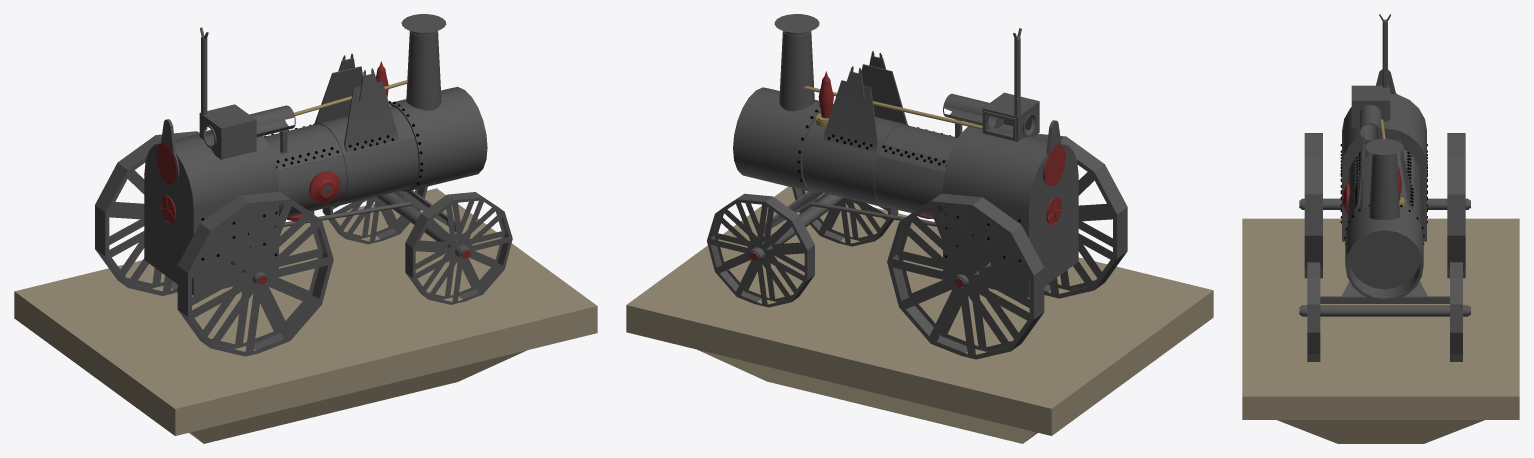
The model's file is keretaapi_gabungan.fbx.
3 views of the same model, side by side, from view 1: azimuth 30°, elevation 25°; view 2: azimuth 150°, elevation 25°; view 3: azimuth 270°, elevation 25° (orthographic). The views are drawn at different scales.
Parts seen in each view (by area): view 1: keretapi_bagianluar, pCube554; view 2: keretapi_bagianluar, pCube554; view 3: pCube554, keretapi_bagianluar.
Part boxes in pixels (x1,y1,x2,y2): keretapi_bagianluar: (95, 14, 512, 356); pCube554: (14, 188, 597, 443); keretapi_bagianluar: (707, 14, 1127, 359); pCube554: (626, 186, 1213, 443); pCube554: (1242, 218, 1519, 443); keretapi_bagianluar: (1299, 14, 1470, 361).
Bounding box in the file's own units: 8.63 × 7.56 × 5.69.
